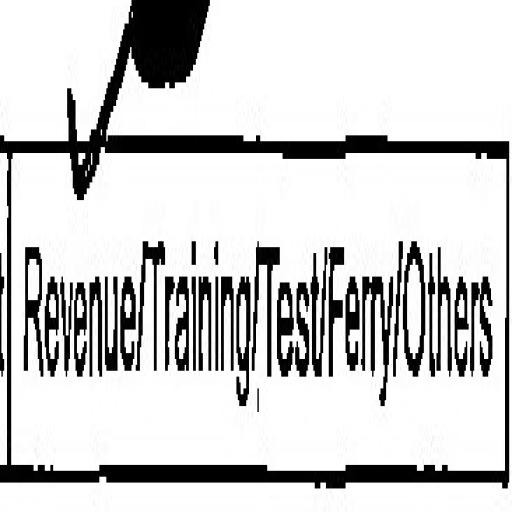check: (6, 0, 140, 512)
